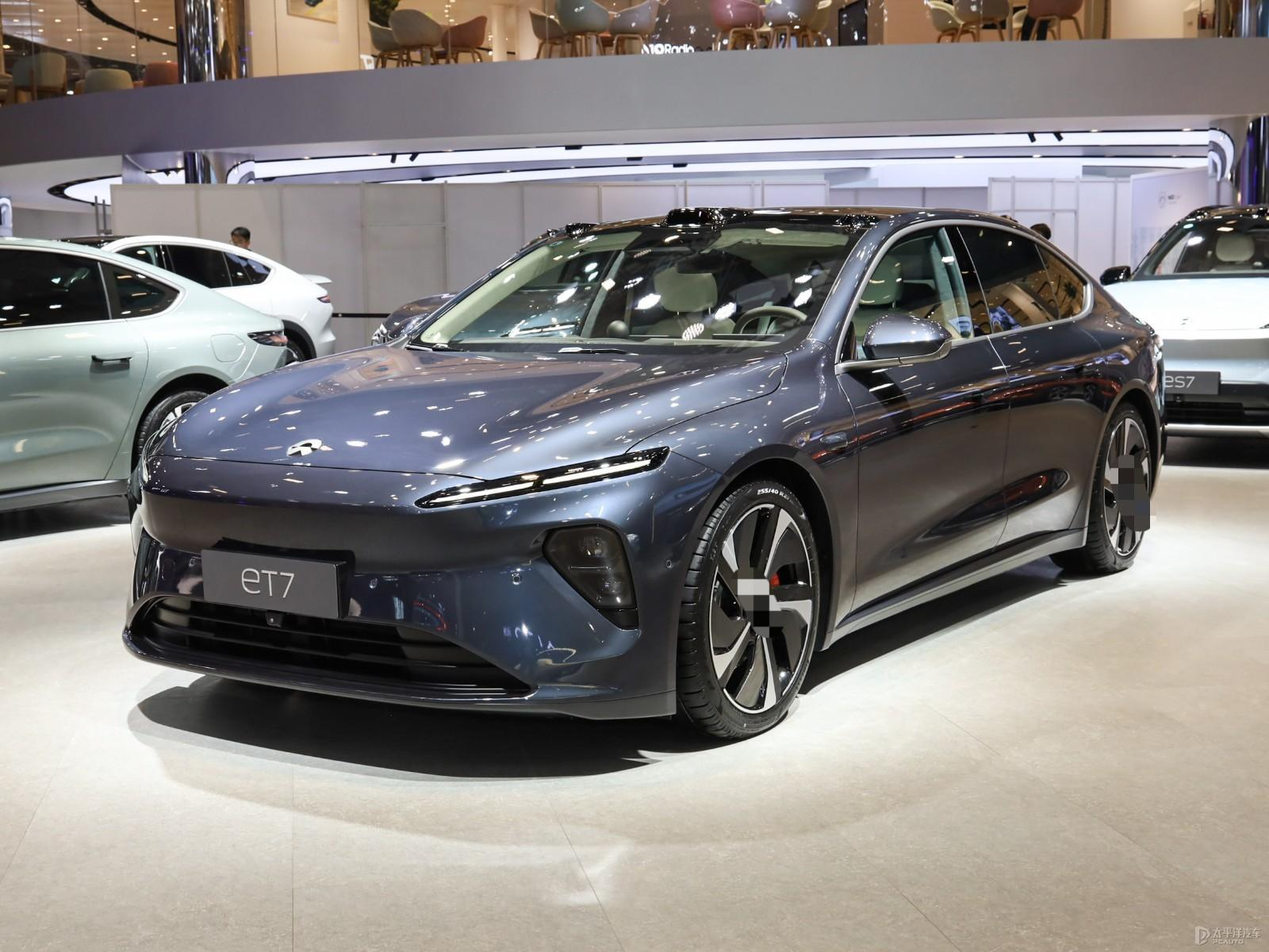NIO: (288, 439, 322, 456)
